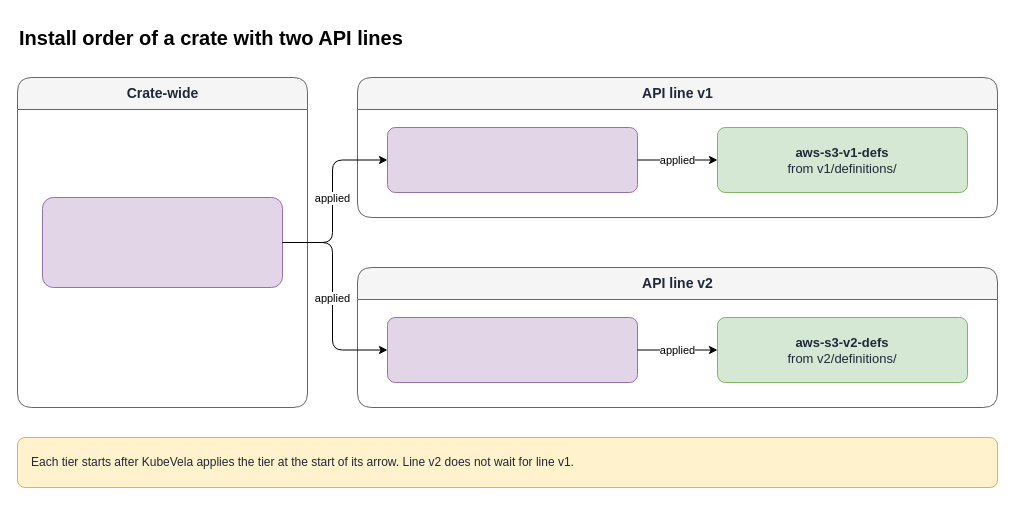
This 1035x505 diagram has some shape labels left out. The shapes that lost their labels are listed below. From the top down, each one's centre as x and y in pixels, then its label:
(512,159): aws-s3-v1-aux from v1/auxiliary/
(162,242): aws-s3-aux from auxiliary/
(512,349): aws-s3-v2-aux from v2/auxiliary/
